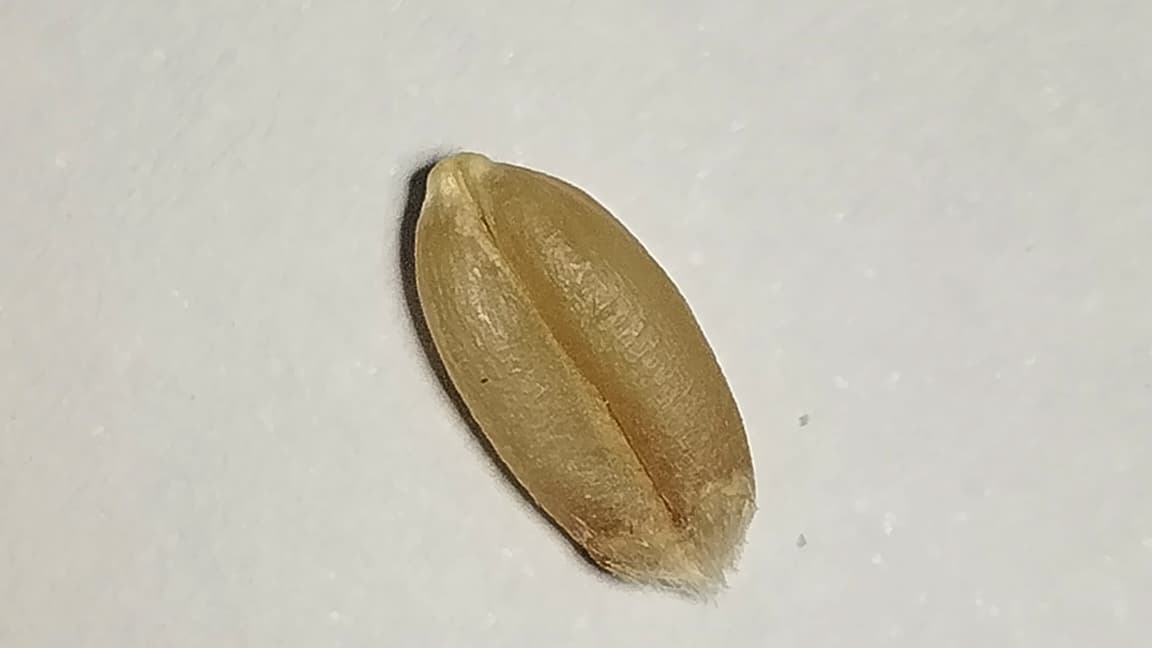healthy: (416, 154, 754, 588)
